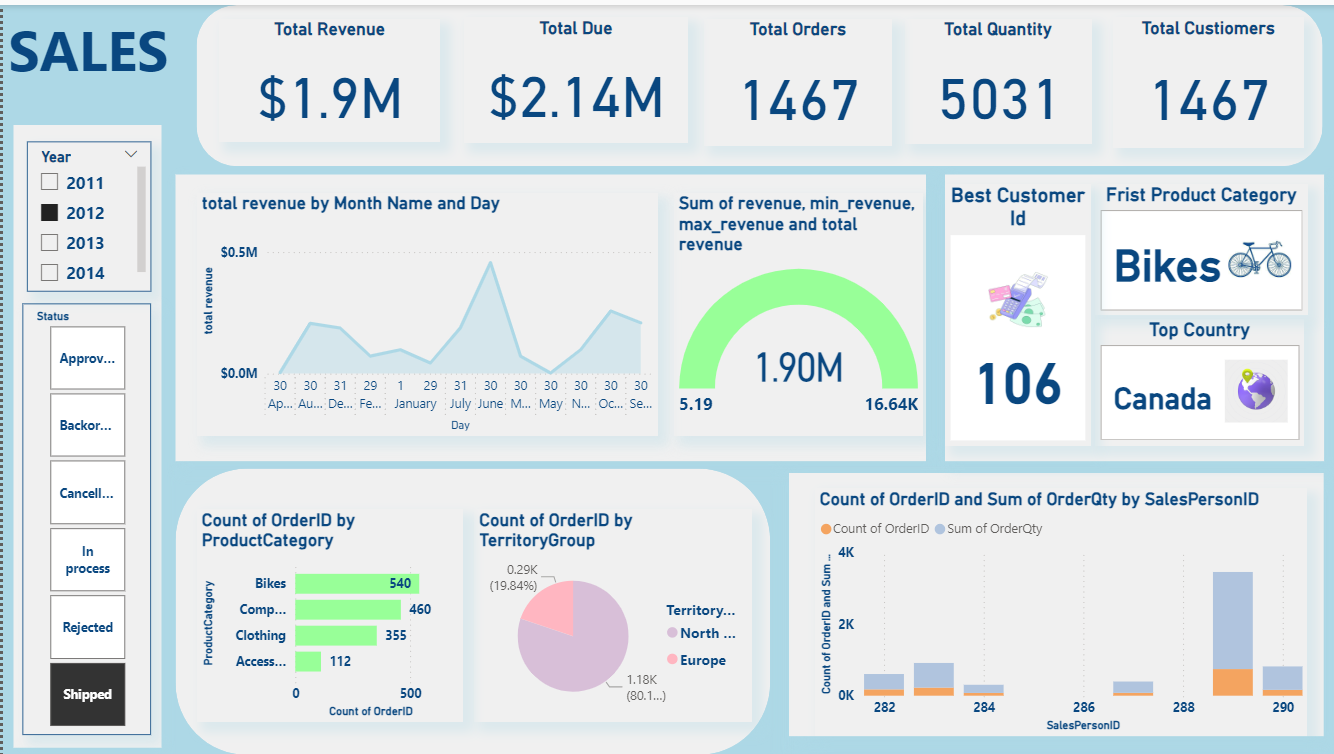

This screenshot's page, from the dashboard's own definition file:
{"tool":"powerbi","page":{"name":"Page 3","canvas":[1280,720],"ordinal":0},"visuals":[{"type":"textbox","box":[0,0,185.2,88.5],"z":0},{"type":"shape","box":[9.5,114.5,141.6,594.9],"z":1000},{"type":"slicer","fields":{"Values":["Dim order date.Year"]},"box":[22.9,130.3,118.9,143.2],"z":2000},{"type":"slicer","fields":{"Values":["Dim staus.Status"]},"box":[19.1,284.7,122.5,412],"z":3000},{"type":"shape","box":[185.2,0,1075.4,154.1],"z":4000},{"type":"card","title":"Total Revenue","fields":{"Values":["Fact Order.total revenue"]},"box":[206.6,13.1,211.5,118],"z":5000},{"type":"card","title":"Total Due","fields":{"Values":["Fact Order.total coast"]},"box":[439.3,11.5,214.8,119.7],"z":6000},{"type":"card","title":" Total Orders","fields":{"Values":["CountNonNull(Fact Order.OrderID)"]},"box":[668.9,13.1,180.3,121.3],"z":7000},{"type":"card","title":" Total Quantity","fields":{"Values":["Sum(Fact Order.OrderQty)"]},"box":[860.7,13.1,178.7,119.7],"z":8000},{"type":"shape","box":[165.4,161.6,716.7,273.7],"z":9000},{"type":"shape","box":[750.8,447,510.6,251.3],"z":10000},{"type":"columnChart","fields":{"Category":["Fact Order.SalesPersonID"],"Y":["CountNonNull(Fact Order.OrderID)","Sum(Fact Order.OrderQty)"]},"box":[774.6,461.3,470.8,237],"z":11000},{"type":"shape","box":[165.4,442.2,567.8,273.6],"z":12000},{"type":"pieChart","fields":{"Category":["Dimterritories.TerritoryGroup Hierarchy.TerritoryGroup","Dimterritories.TerritoryGroup Hierarchy.Territory"],"Y":["CountNonNull(Fact Order.OrderID)"]},"box":[450.1,482,265.6,203.6],"z":13000},{"type":"areaChart","fields":{"Category":["Dim order date.Month Name","Dim order date.Day"],"Y":["Fact Order.total revenue"]},"box":[184.9,179.2,440.4,232.6],"z":14000},{"type":"clusteredBarChart","fields":{"Y":["CountNonNull(Fact Order.OrderID)"],"Category":["Dimproduct.ProductCategory Hierarchy.ProductCategory","Dimproduct.ProductCategory Hierarchy.ProductSubCategory","Dimproduct.ProductCategory Hierarchy.Product"]},"box":[184.5,482,254.5,203.6],"z":15000},{"type":"card","title":"Total Custiomers","fields":{"Values":["CountNonNull(Fact Order.CustomerID)"]},"box":[1060.7,11.5,182,124.6],"z":16000},{"type":"shape","box":[900,162.3,362.3,273.8],"z":17000},{"type":"cardVisual","title":"Frist Product Category","fields":{"Data":["Min(Dimproduct.ProductCategory)"]},"box":[1042.6,170.5,203.3,126.2],"z":18000},{"type":"cardVisual","title":"Best Customer Id","fields":{"Data":["CountNonNull(Fact Order.CustomerID)"]},"box":[900,170.5,139.3,250.8],"z":19000},{"type":"cardVisual","title":"Top Country","fields":{"Data":["Min(Dimterritories.Territory)"]},"box":[1042.6,300,200,121.3],"z":20000},{"type":"gauge","fields":{"MinValue":["Fact Order.min_revenue"],"MaxValue":["Fact Order.max_revenue"],"Y":["Sum(Fact Order.revenue)"],"TargetValue":["Fact Order.total revenue"]},"box":[640.6,179.2,238.3,232.6],"z":21000}]}

Visuals, with their boxes in screenshot pixels (x1, y1, x2, y2), scaled from the page's 1280x720 canvas onto the 1334x754 screenshot:
textbox: <region>0, 0, 193, 93</region>
shape: <region>10, 120, 157, 743</region>
slicer - Dim order date.Year: <region>24, 136, 148, 286</region>
slicer - Dim staus.Status: <region>20, 298, 148, 730</region>
shape: <region>193, 0, 1314, 161</region>
"Total Revenue" card: <region>215, 14, 436, 137</region>
"Total Due" card: <region>458, 12, 682, 137</region>
" Total Orders" card: <region>697, 14, 885, 141</region>
" Total Quantity" card: <region>897, 14, 1083, 139</region>
shape: <region>172, 169, 919, 456</region>
shape: <region>782, 468, 1315, 731</region>
columnChart - Fact Order.SalesPersonID x CountNonNull(Fact Order.OrderID): <region>807, 483, 1298, 731</region>
shape: <region>172, 463, 764, 750</region>
pieChart - Dimterritories.TerritoryGroup Hierarchy.TerritoryGroup x Dimterritories.TerritoryGroup Hierarchy.Territory: <region>469, 505, 746, 718</region>
areaChart - Dim order date.Month Name x Dim order date.Day: <region>193, 188, 652, 431</region>
clusteredBarChart - CountNonNull(Fact Order.OrderID) x Dimproduct.ProductCategory Hierarchy.ProductCategory: <region>192, 505, 458, 718</region>
"Total Custiomers" card: <region>1105, 12, 1295, 143</region>
shape: <region>938, 170, 1316, 457</region>
"Frist Product Category" cardVisual: <region>1087, 179, 1298, 311</region>
"Best Customer Id" cardVisual: <region>938, 179, 1083, 441</region>
"Top Country" cardVisual: <region>1087, 314, 1295, 441</region>
gauge - Fact Order.min_revenue x Fact Order.max_revenue: <region>668, 188, 916, 431</region>
